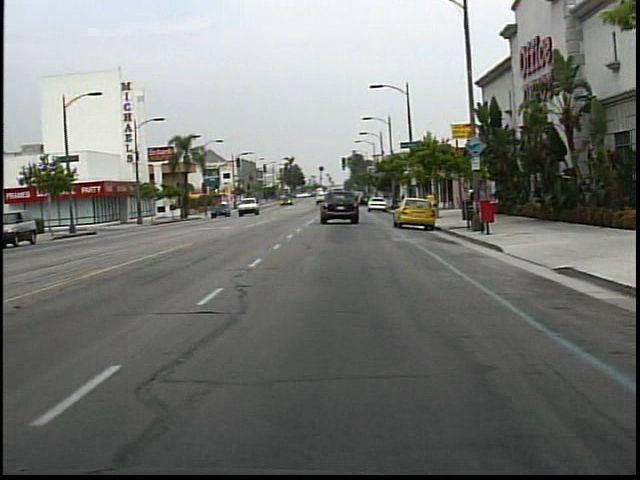person: (463, 185, 485, 221)
